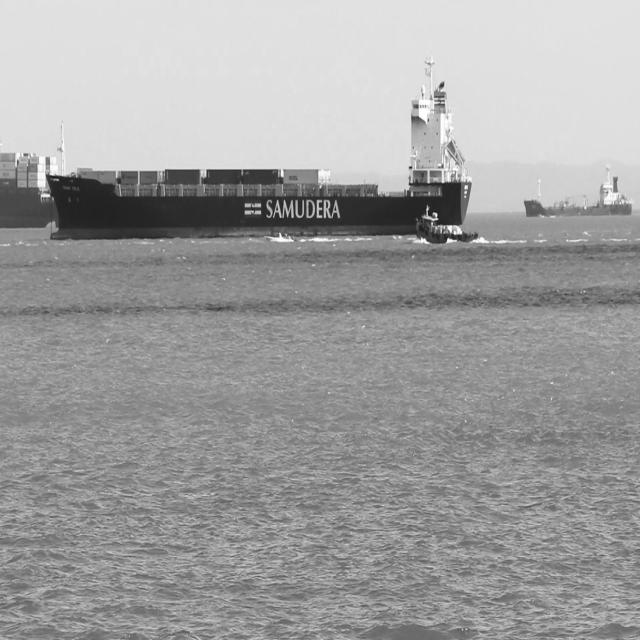ship: (45, 51, 473, 240), (524, 163, 633, 219), (0, 150, 59, 230), (414, 207, 480, 244), (264, 228, 298, 244)
